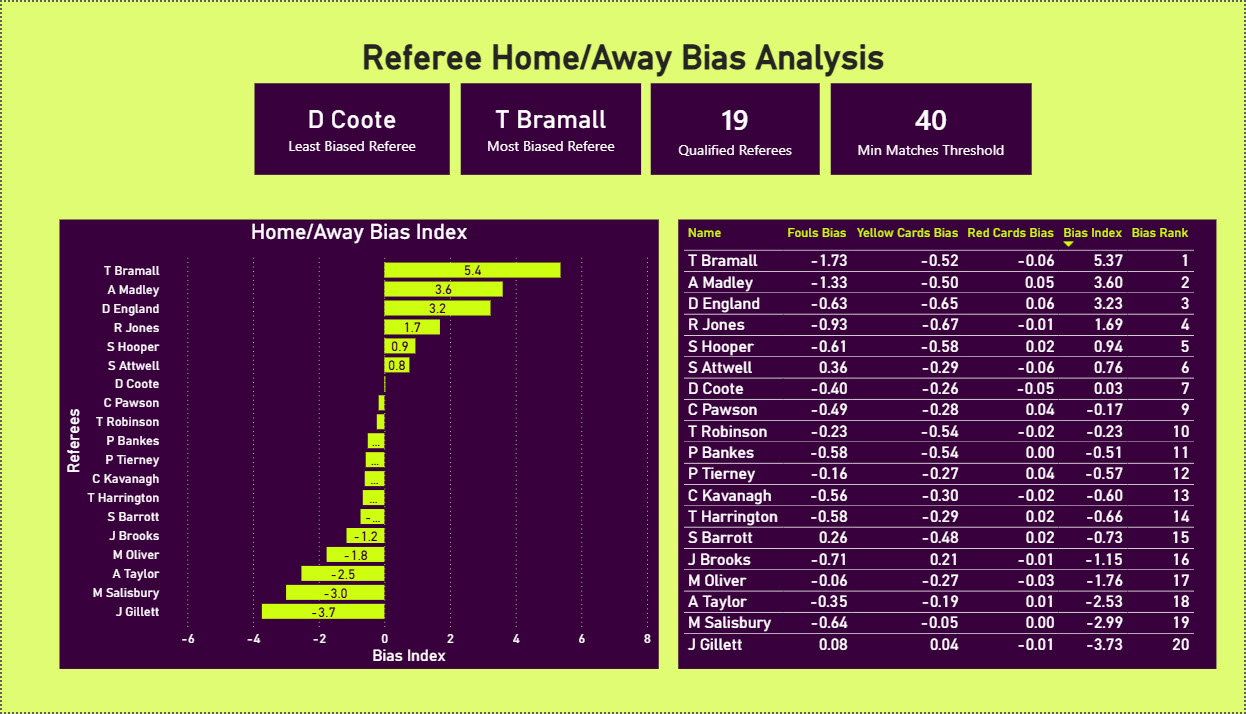

What the dashboard file says about the page in this screenshot:
{"tool":"powerbi","page":{"name":"Referee Home Bias","canvas":[1400,800],"ordinal":1},"visuals":[{"type":"barChart","title":"Home/Away Bias Index","fields":{"Category":["dim_referee.referee_name"],"Y":["dim_referee.Home/Away Bias Index"]},"box":[65,245,675,506.7],"z":0},{"type":"tableEx","fields":{"Values":["dim_referee.referee_name","dim_referee.Fouls Home-Away Gap","dim_referee.Yellow Cards Home-Away Gap","dim_referee.Red Cards Home-Away Gap","dim_referee.Home/Away Bias Index","dim_referee.Bias Rank"]},"box":[761.7,245,606.7,506.7],"z":1000},{"type":"cardVisual","fields":{"Data":["dim_referee.Least Biased Referee"]},"box":[285,91.7,220,103.3],"z":2000},{"type":"cardVisual","fields":{"Data":["dim_referee.Most Biased Referee"]},"box":[516.7,91.7,203.3,103.3],"z":3000},{"type":"textbox","box":[0,35,1400,56.7],"z":4000},{"type":"cardVisual","fields":{"Data":["dim_referee.Min Matches Threshold"]},"box":[933.3,91.7,226.7,103.3],"z":5000},{"type":"cardVisual","fields":{"Data":["dim_referee.Qualified Referees"]},"box":[731.7,91.7,190,103.3],"z":6000}]}

Visuals, with their boxes in screenshot pixels (x1, y1, x2, y2), scaled from the page's 1400x800 canvas onto the 1246x714 screenshot:
"Home/Away Bias Index" barChart: {"left": 58, "top": 219, "right": 659, "bottom": 671}
tableEx - dim_referee.referee_name x dim_referee.Fouls Home-Away Gap: {"left": 678, "top": 219, "right": 1218, "bottom": 671}
cardVisual - dim_referee.Least Biased Referee: {"left": 254, "top": 82, "right": 449, "bottom": 174}
cardVisual - dim_referee.Most Biased Referee: {"left": 460, "top": 82, "right": 641, "bottom": 174}
textbox: {"left": 0, "top": 31, "right": 1245, "bottom": 82}
cardVisual - dim_referee.Min Matches Threshold: {"left": 831, "top": 82, "right": 1032, "bottom": 174}
cardVisual - dim_referee.Qualified Referees: {"left": 651, "top": 82, "right": 820, "bottom": 174}
